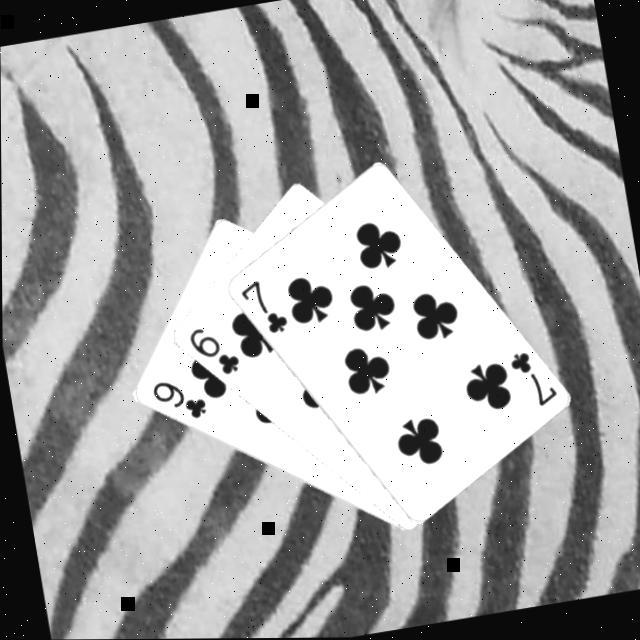6C: (185, 321, 245, 385)
7C: (237, 274, 294, 343), (506, 346, 563, 415)
9C: (148, 373, 212, 430)
